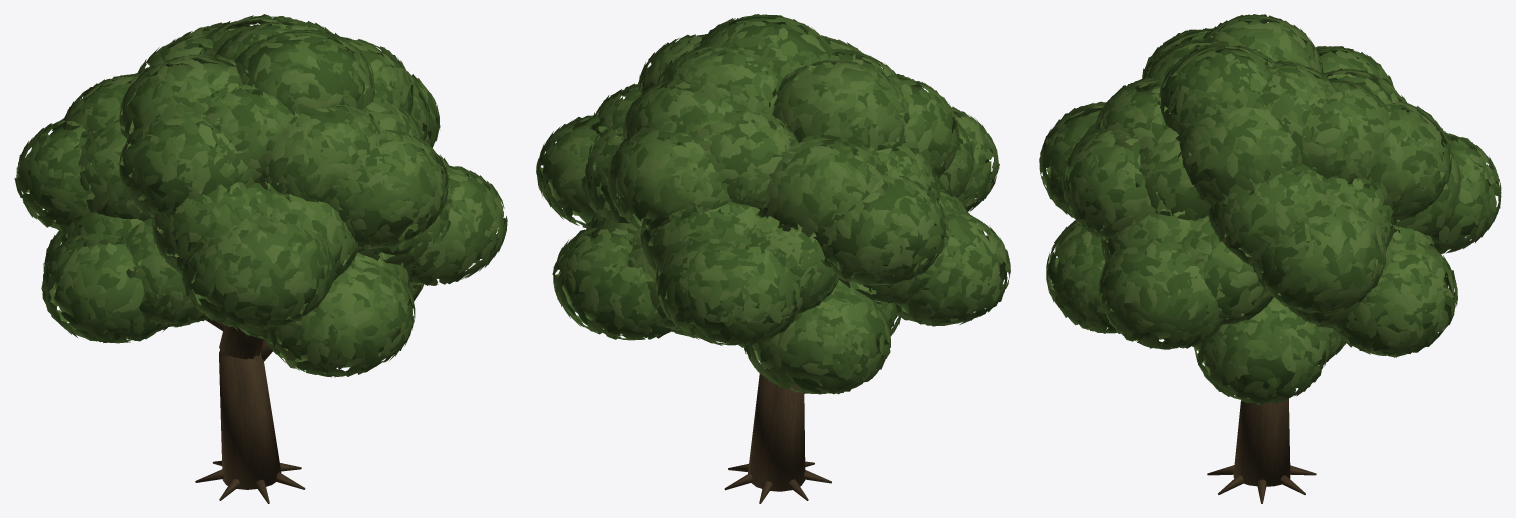
Rendered from oak_tree.glb.
The picture shows the model from 3 angles, left to right: view 1: azimuth 30°, elevation 25°; view 2: azimuth 150°, elevation 25°; view 3: azimuth 270°, elevation 25°; orthographic projection. The views are drawn at different scales.
Parts seen in each view (by area): view 1: Attached leaf clusters.002, Curving trunk.006, Leafy crown cluster.085, Leafy crown cluster.084, Leafy crown cluster.086; view 2: Attached leaf clusters.002, Leafy crown cluster.084, Curving trunk.006, Leafy crown cluster.086, Leafy crown cluster.085; view 3: Attached leaf clusters.002, Leafy crown cluster.086, Curving trunk.006, Leafy crown cluster.084, Leafy crown cluster.085.
Boxes of the visible parts, <box> form: Attached leaf clusters.002: <box>14,14,507,377</box>; Curving trunk.006: <box>195,318,305,503</box>; Leafy crown cluster.085: <box>51,24,436,333</box>; Leafy crown cluster.084: <box>27,39,399,275</box>; Leafy crown cluster.086: <box>89,28,493,367</box>; Attached leaf clusters.002: <box>536,14,1010,394</box>; Leafy crown cluster.084: <box>563,22,962,346</box>; Curving trunk.006: <box>724,369,831,503</box>; Leafy crown cluster.086: <box>543,54,955,322</box>; Leafy crown cluster.085: <box>617,42,1000,385</box>; Attached leaf clusters.002: <box>1039,14,1501,404</box>; Leafy crown cluster.086: <box>1055,20,1449,339</box>; Curving trunk.006: <box>1207,397,1316,503</box>; Leafy crown cluster.084: <box>1113,40,1489,395</box>; Leafy crown cluster.085: <box>1050,57,1420,332</box>.
Bounding box in the file's own units: 5.62 × 5.68 × 5.4.
Materials: 5 (1 with a texture image).
